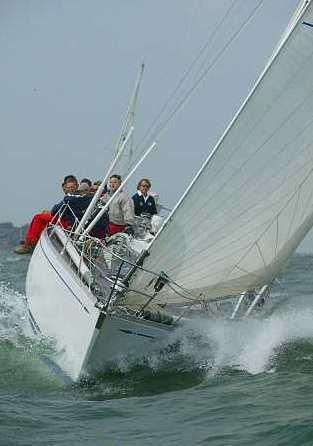Ship: (24, 1, 313, 391)
